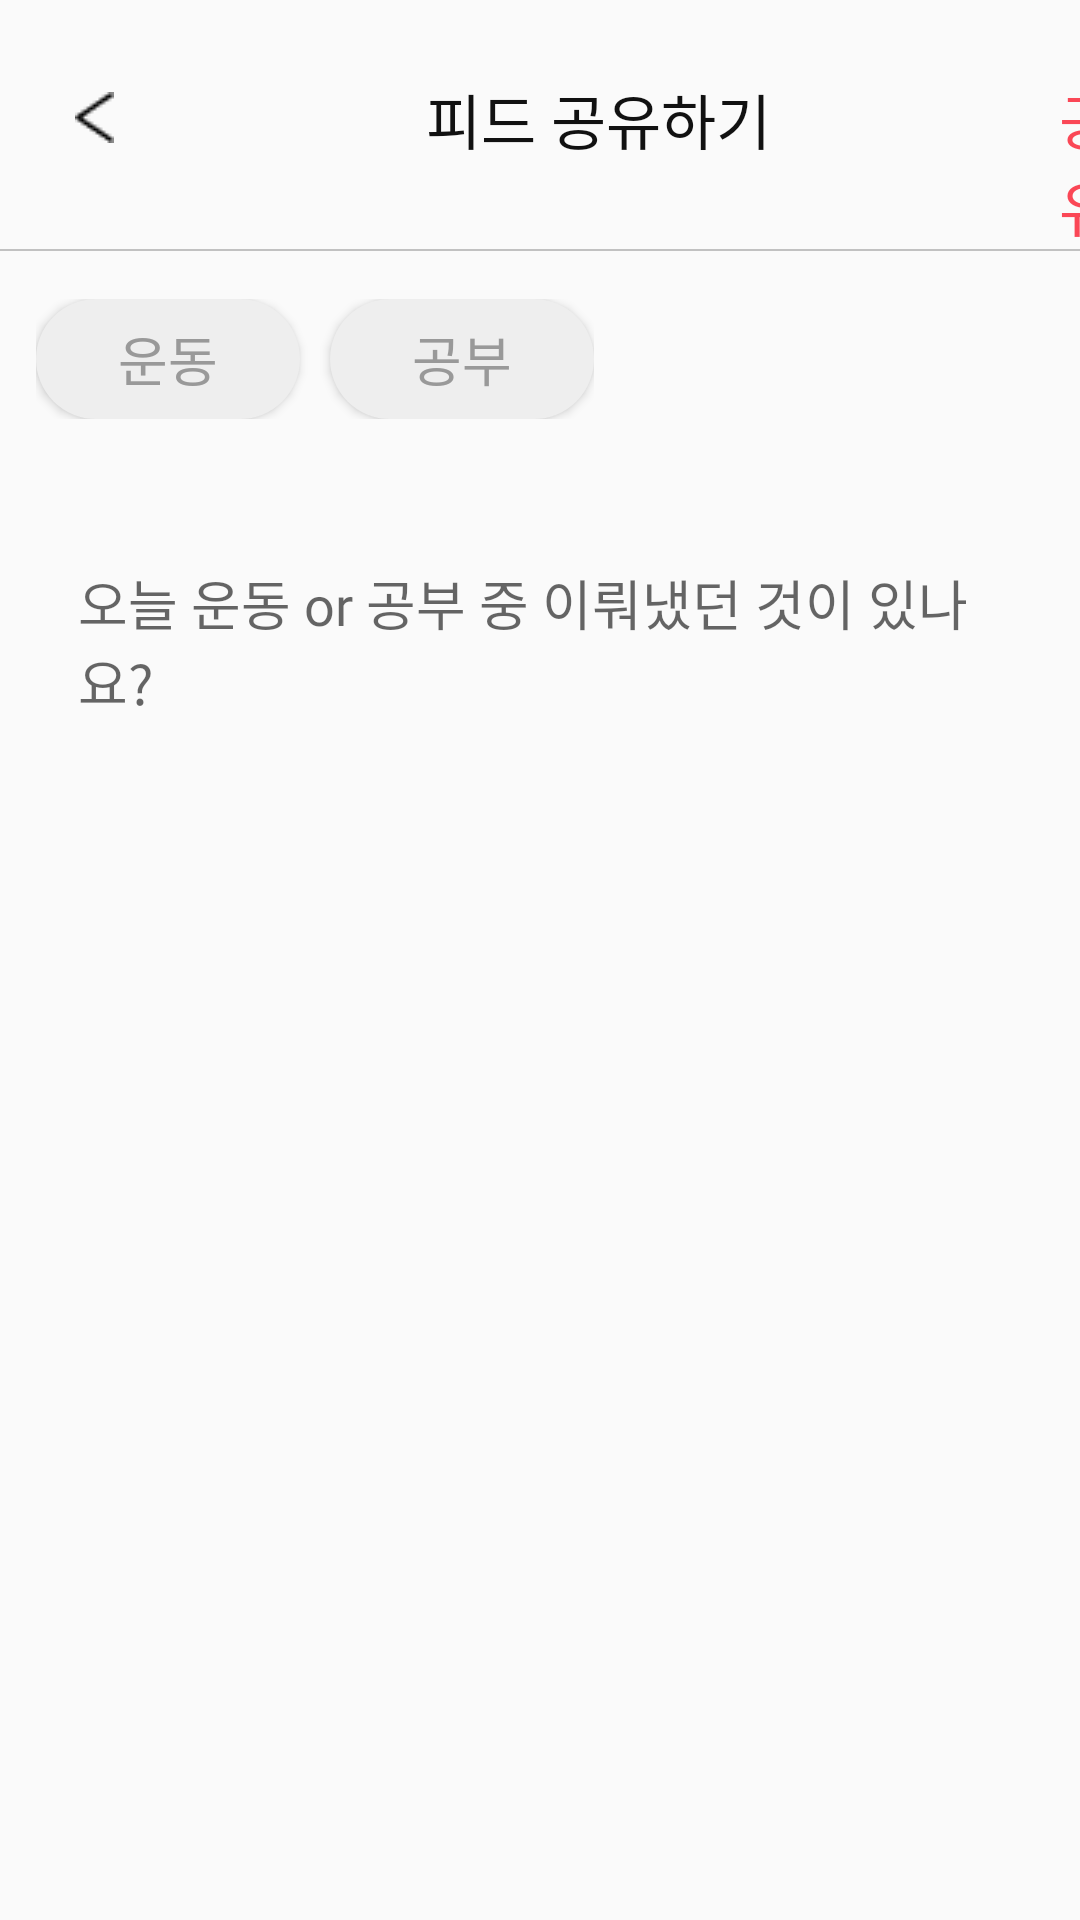

Icon bounding boxes for this 1080px×1920px phone screenshot, format (left=x1, top=y1, right=x2, bottom=y2):
leftarrow: (left=75, top=92, right=114, bottom=143)
